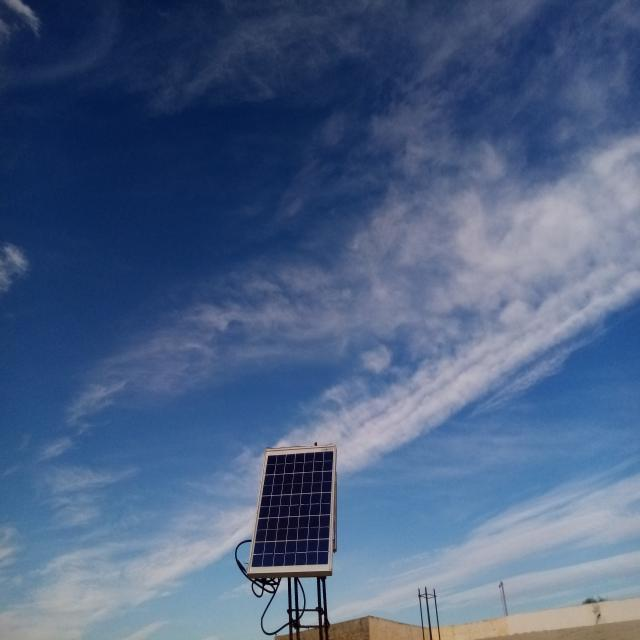no faulty: (247, 445, 335, 574)
